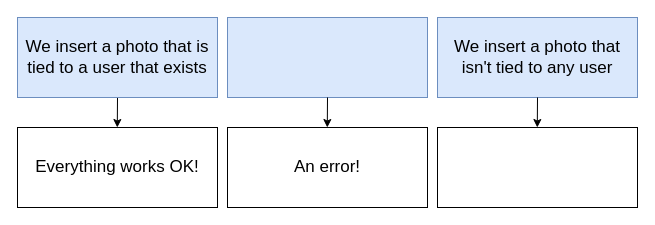
The diagram is 655 pixels wide and 225 high, and some of its shapes have lost their labels. The box of each missing label's shape, as (x1, y1, x2, y2) in pixels:
Put in a value of 'NULL' for the user_id: (436, 126, 638, 208)
We insert a photo that refers to a user that doesn't: (226, 16, 428, 98)
